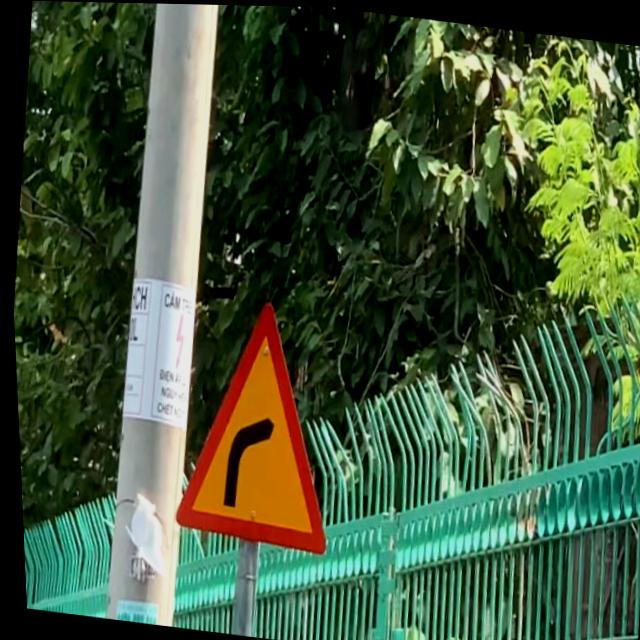cho ngoat nguy hiem vong ben phai: (155, 284, 349, 559)
